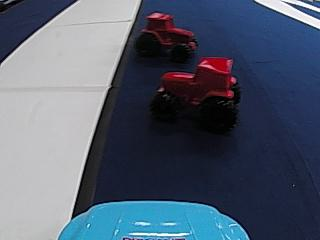Tracktor: (152, 48, 241, 128), (137, 9, 198, 62)
